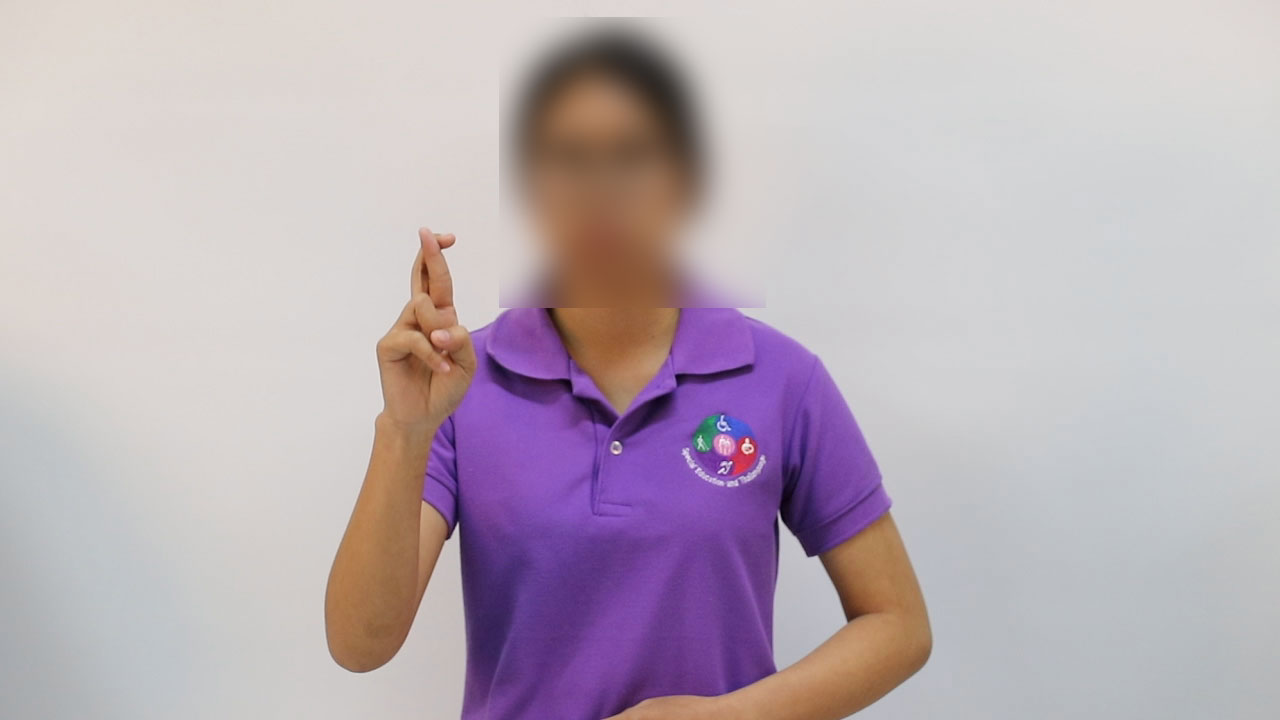rao: (347, 221, 485, 441)
